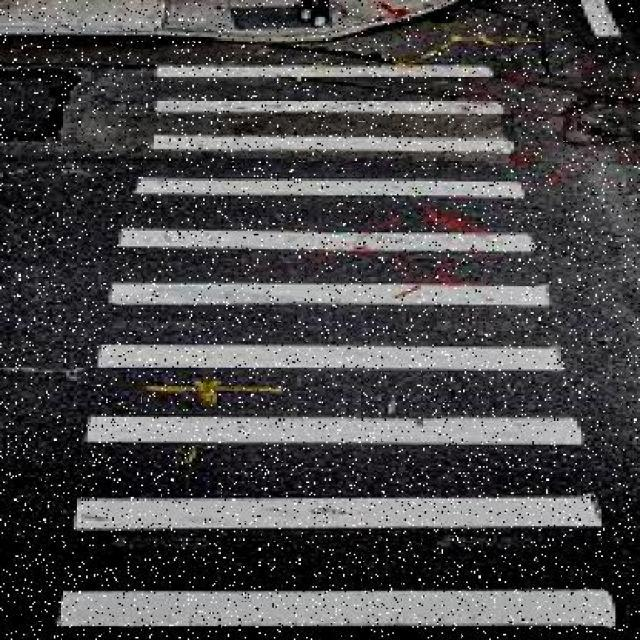crosswalk: (54, 29, 624, 640)
